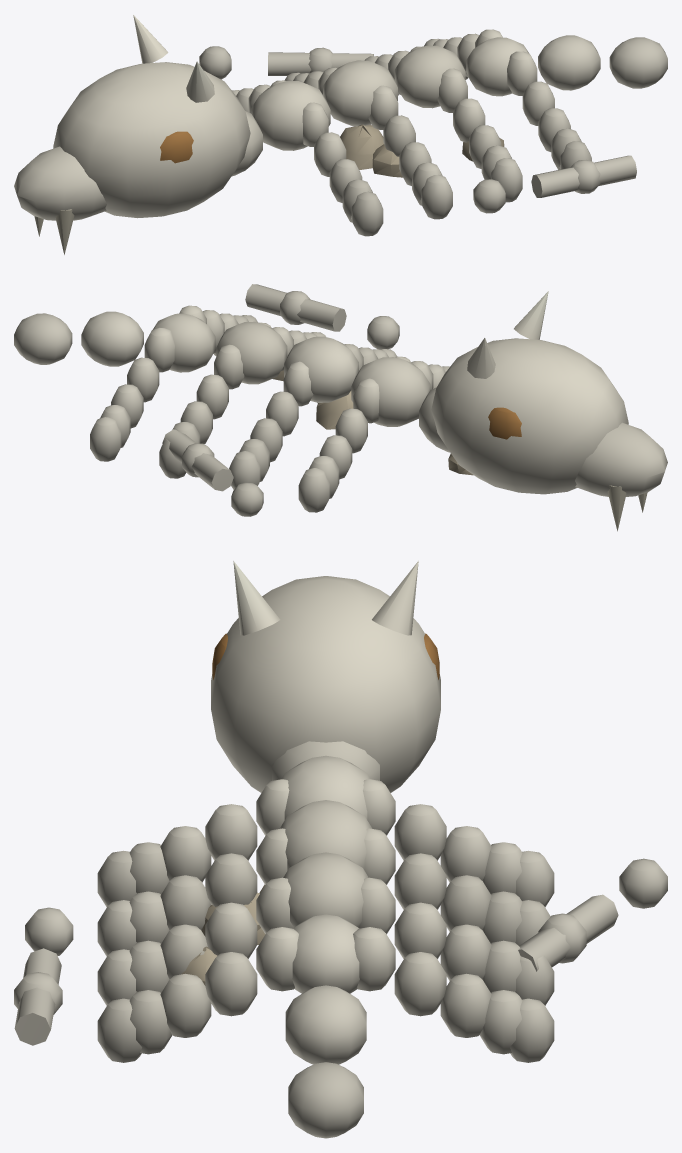
The model's file is cen_tarhut_ossada_2.glb.
The picture shows the model from 3 angles, top to bottom: view 1: azimuth 30°, elevation 25°; view 2: azimuth 150°, elevation 25°; view 3: azimuth 270°, elevation 25°; orthographic projection. The views are drawn at different scales.
Visible parts, largest first — view 1: ossada; view 2: ossada; view 3: ossada.
Boxes of the visible parts, x1,y1,x2,y2 form: ossada: (14,15,667,254); ossada: (14,284,667,531); ossada: (14,561,667,1138).
Bounding box in the file's own units: 2.98 × 0.796 × 1.8.
